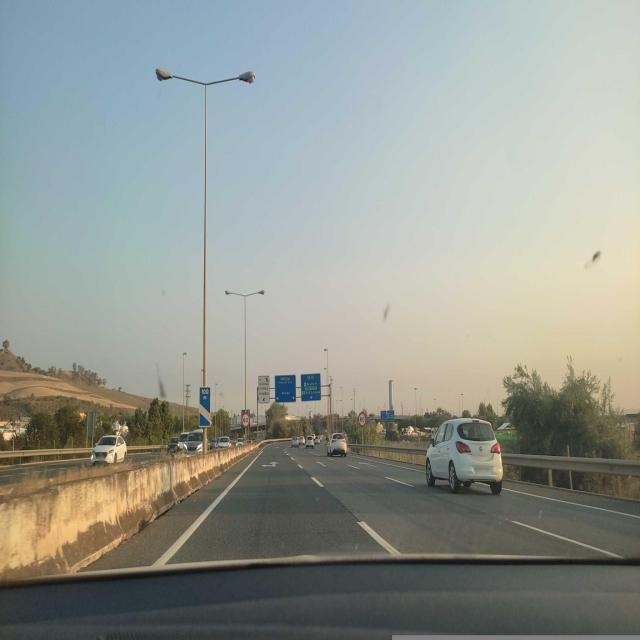car: (424, 415, 504, 495), (90, 434, 128, 466), (327, 431, 348, 457), (185, 430, 207, 453), (167, 436, 181, 454), (217, 436, 231, 448), (305, 434, 314, 448), (313, 434, 321, 445), (298, 436, 304, 445)
